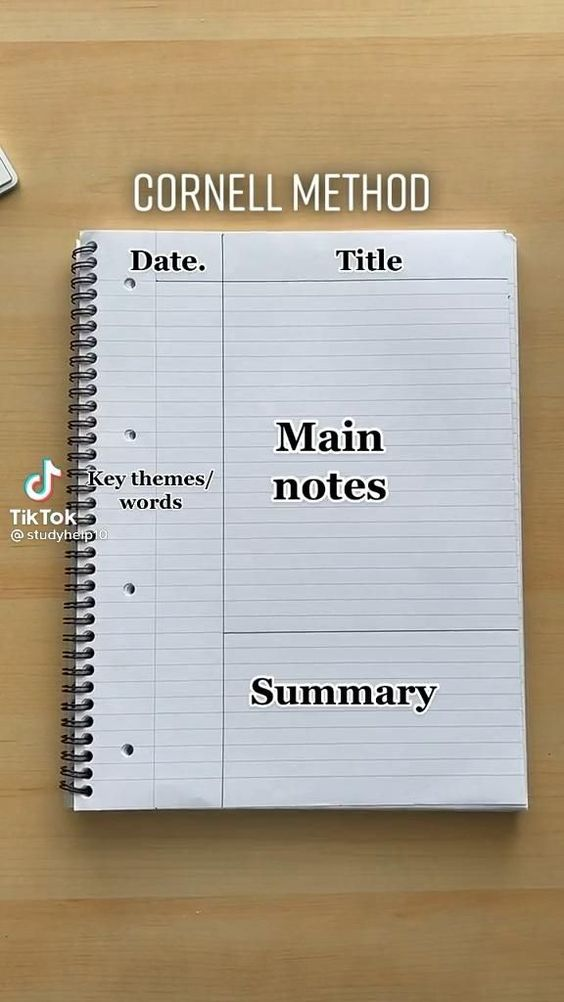page: (105, 233, 511, 805)
